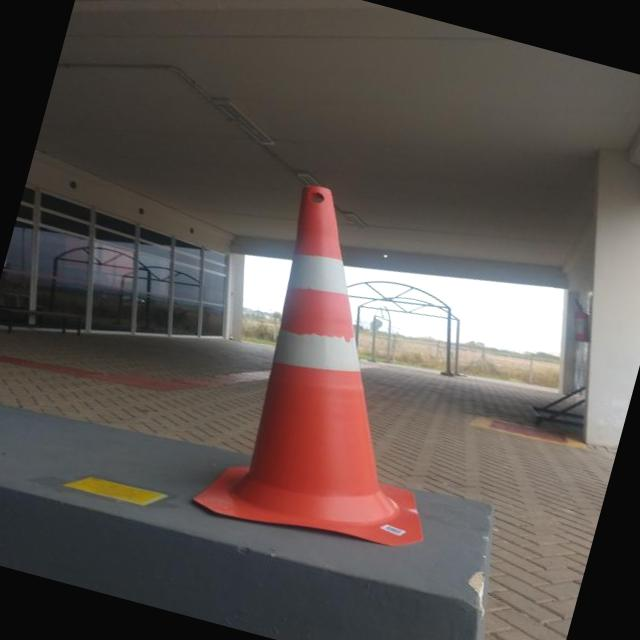Cone: (150, 144, 522, 578)
